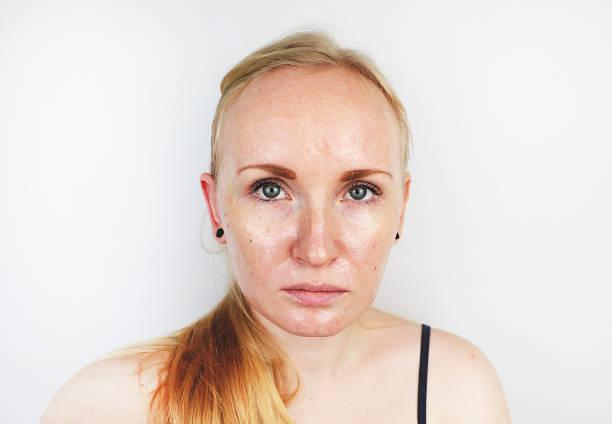Dry-Skin: (267, 223, 313, 279), (361, 218, 386, 287), (299, 123, 328, 170), (238, 227, 258, 276), (260, 109, 281, 146), (296, 311, 329, 328), (313, 80, 333, 107), (347, 124, 367, 146)
